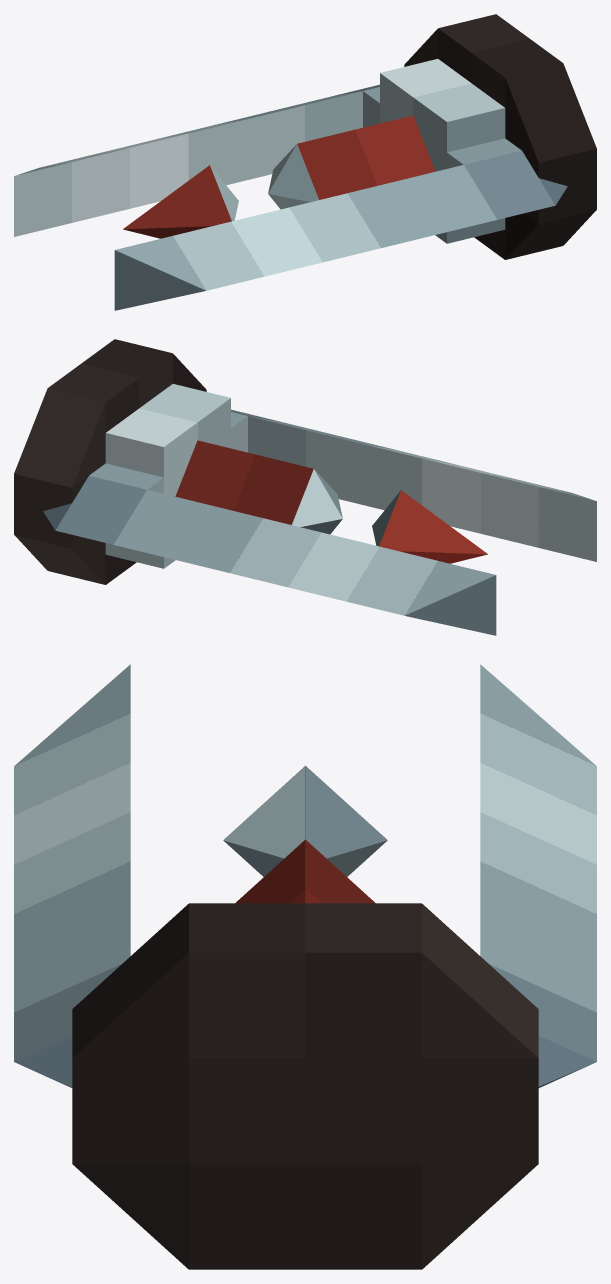
The model's file is signalite_singing_body.obj.
The picture shows the model from 3 angles, top to bottom: view 1: azimuth 30°, elevation 25°; view 2: azimuth 150°, elevation 25°; view 3: azimuth 270°, elevation 25°; orthographic projection. The views are drawn at different scales.
Parts seen in each view (by area): view 1: SINGING_BODY_Cube.013; view 2: SINGING_BODY_Cube.013; view 3: SINGING_BODY_Cube.013.
Boxes of the visible parts, x1,y1,x2,y2 form: SINGING_BODY_Cube.013: (14,14,596,310); SINGING_BODY_Cube.013: (14,339,596,635); SINGING_BODY_Cube.013: (14,664,596,1269).
Bounding box in the file's own units: 0.5 × 0.1875 × 0.3125.
